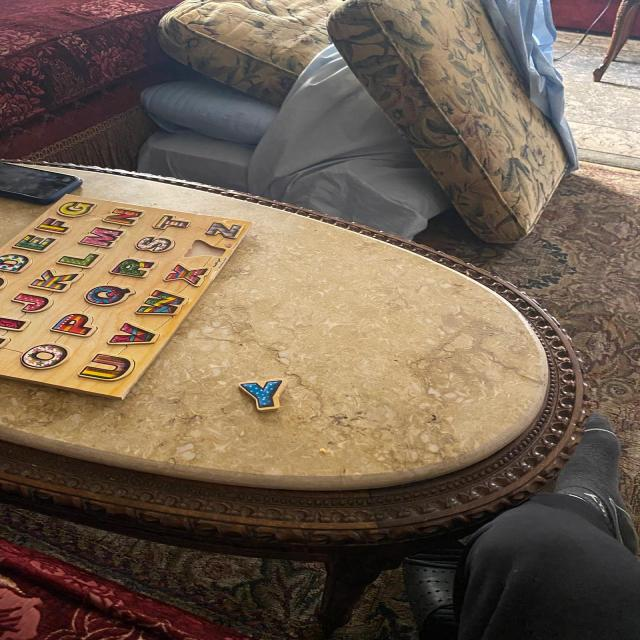Y: (240, 379, 285, 410)
